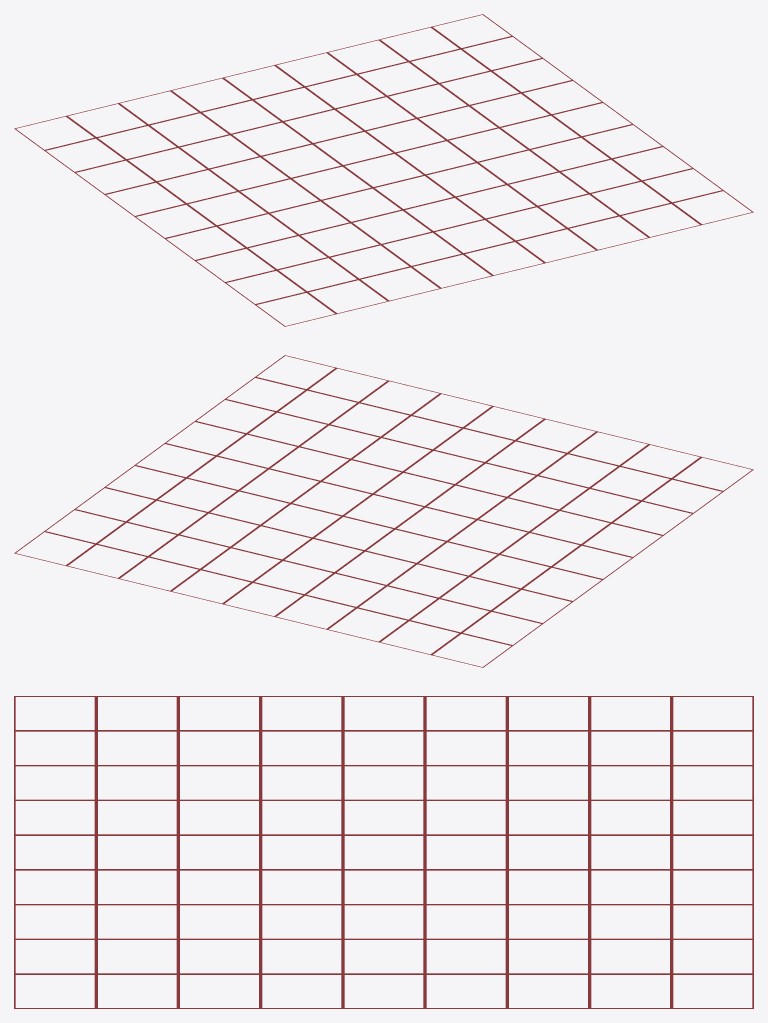
3 views of the same model, one above another, from view 1: azimuth 30°, elevation 25°; view 2: azimuth 150°, elevation 25°; view 3: azimuth 270°, elevation 25° (orthographic). The views are drawn at different scales.
Parts seen in each view (by area): view 1: Plane002; view 2: Plane002; view 3: Plane002.
Boxes of the visible parts, x1,y1,x2,y2 form: Plane002: (14,14,753,326); Plane002: (14,355,753,667); Plane002: (14,696,753,1008).
Size of the model in its own units: 979 by 979 by 0.
